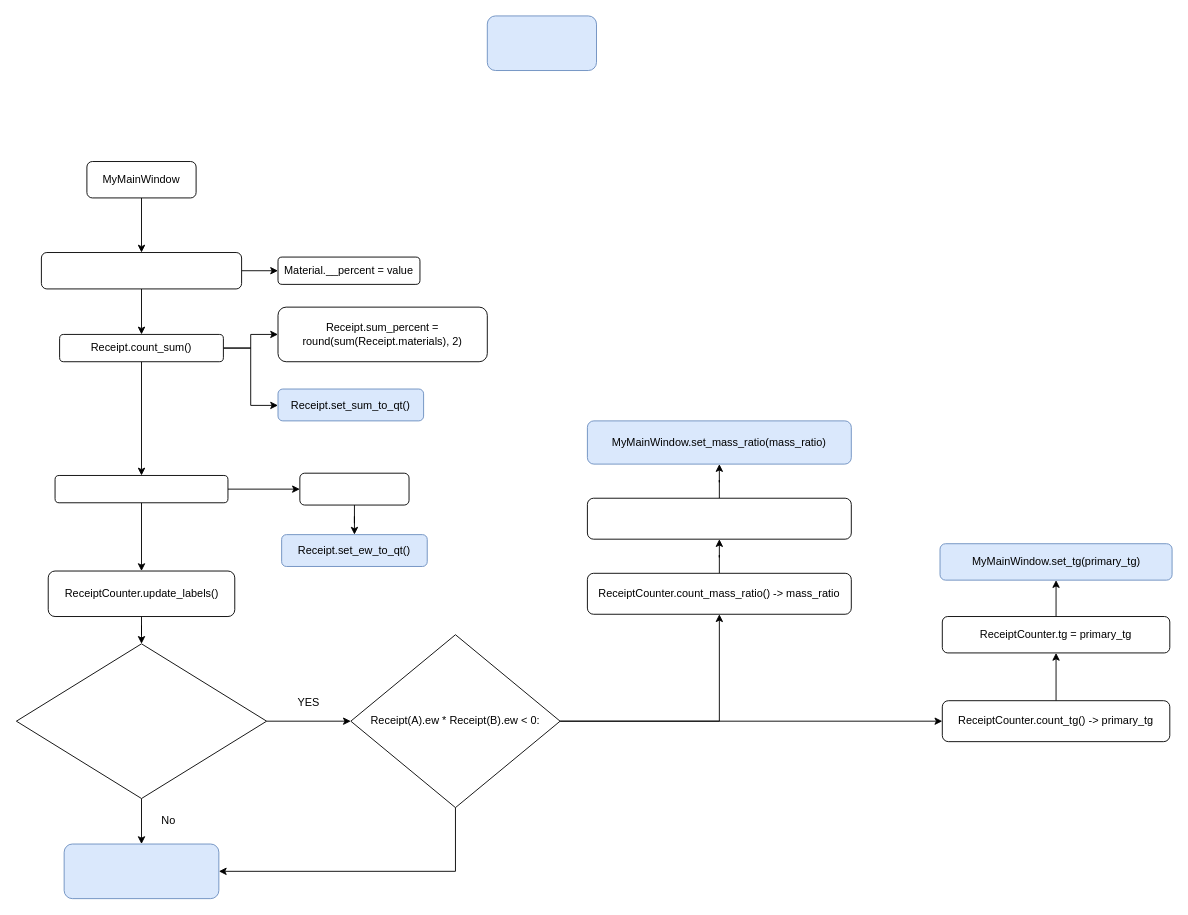
This 1188x915 diagram has some shape labels left out. The shapes that lost their labels are listed below. From the top down, each one's centre as x and y in pixels, then its label:
[541,43]: Set value to qt window
[141,270]: Material .percent = float(percent_line.text())
[141,489]: Receipt.update_all_parameters()
[354,488]: Receipt.count_ew()
[718,518]: ReceiptCounter.mass_ratio = mass_ratio
[141,721]: Receipt(A). sum_percent == 100 and Receipt(B).sum_percent == 100
[141,871]: ReceiptCounter. drop_labels()
